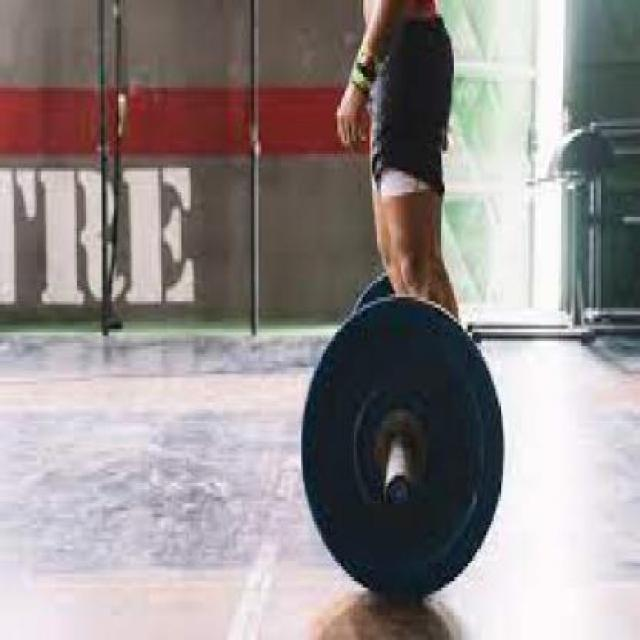barbell: (296, 292, 510, 610)
